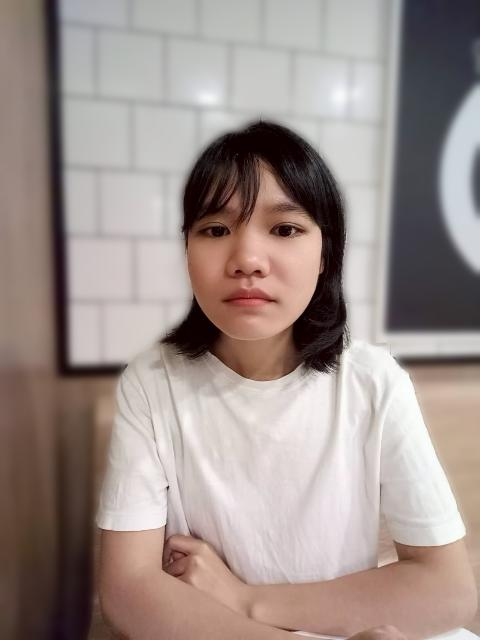fokus: (184, 144, 324, 341)
